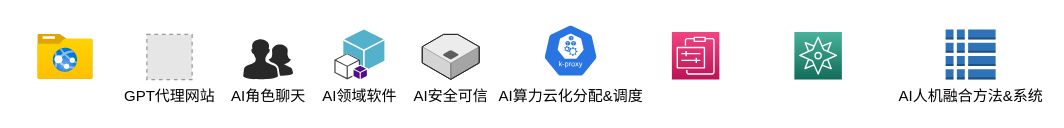
Image size: 1064x128. Some labels were removed from this diagram. Grey dashed boxes stand in for pictures. Here are the shapes that lost their labels. From the top down, the centre of each, then its label:
At (65,56): "AI普及与培训".
At (695,55): "AI伦理&治理".
At (817,55): "AI多智能体协同&进化".
